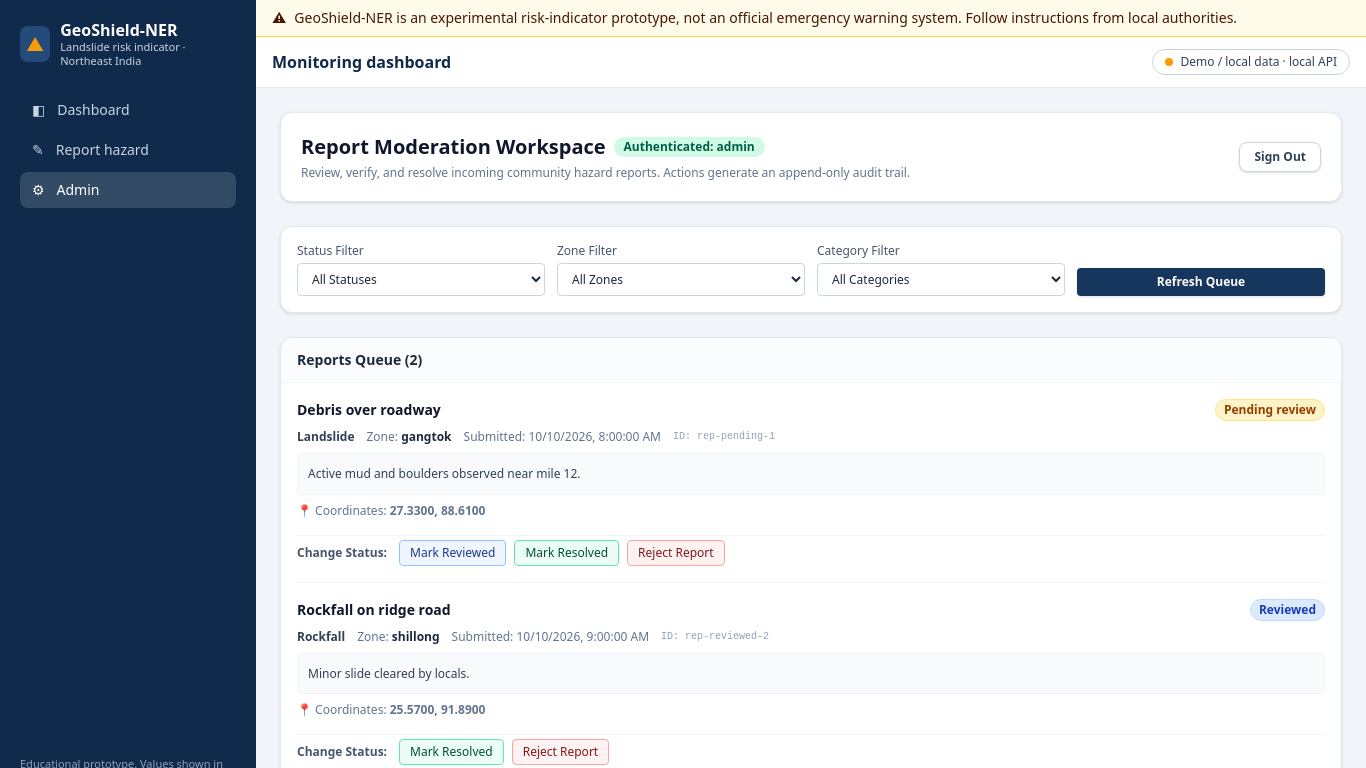
Test: Admin UI — /admin › allows moderating a report through confirm dialog
Expected: the text "Debris over roadway" is shown, [297, 400, 441, 420]
Click "Mark Reviewed" button on the first report
What coordinates should you click on to do the following:
click the button "Mark Reviewed"
I would click on:
 (453, 552)
Its box is [399, 540, 506, 566].
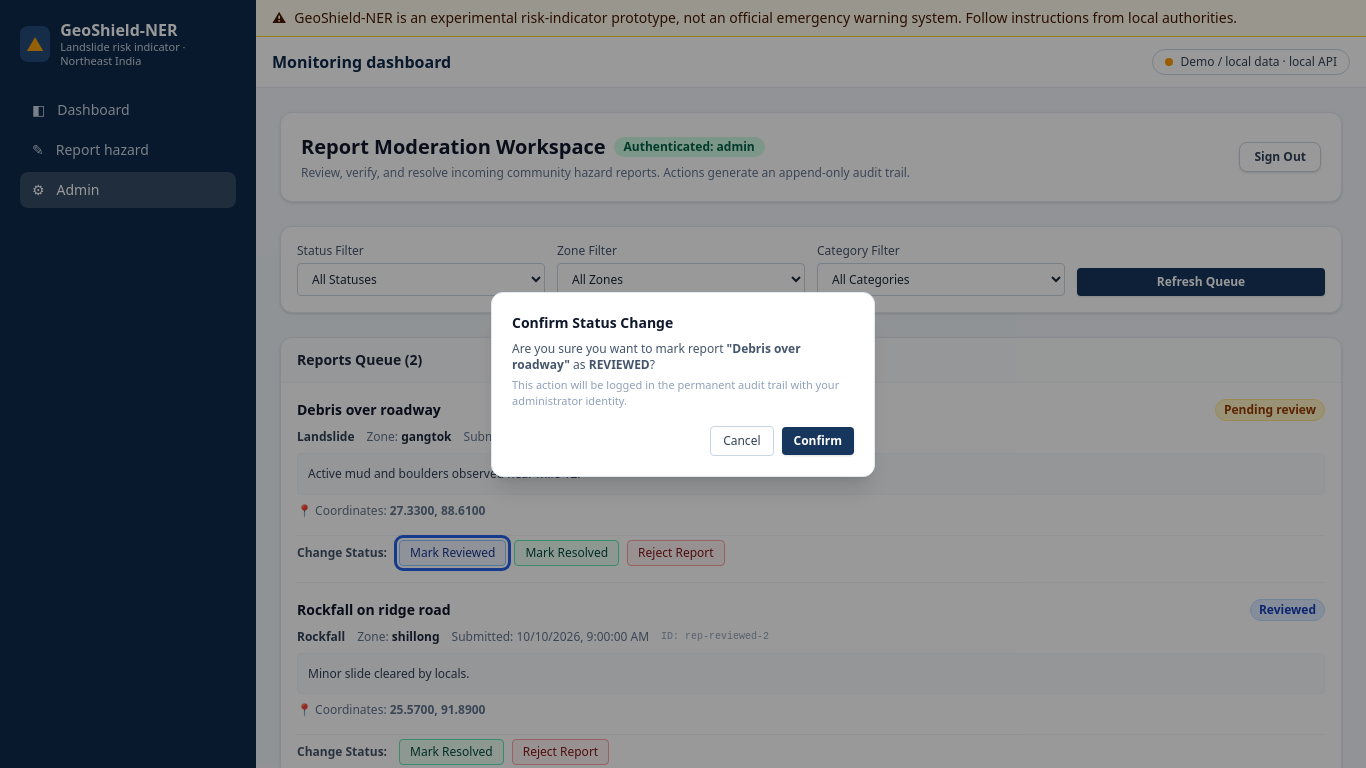
Result: the dialog is shown
Result: the heading "Confirm Status Change" is shown at [512, 312, 673, 332]
Click "Confirm"
What coordinates should you click on to do the following:
click the button "Confirm"
I would click on:
 (818, 440)
Its box is [782, 426, 854, 454].
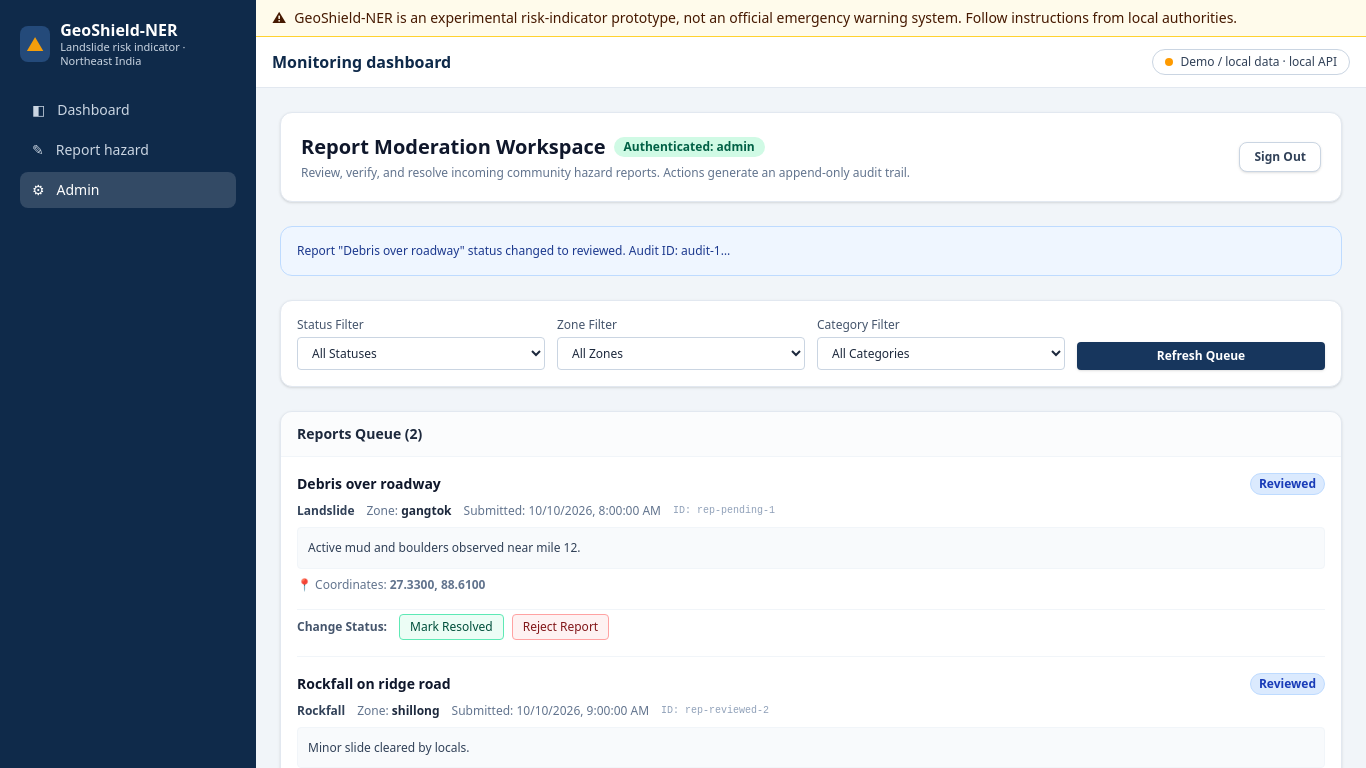
Result: the dialog is gone
Result: the text "Report \"Debris over roadway\" status changed to reviewed. Audit ID: audit-1…" is shown at [280, 226, 1342, 276]
